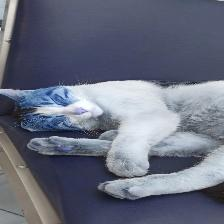kedo: (0, 77, 224, 200)
